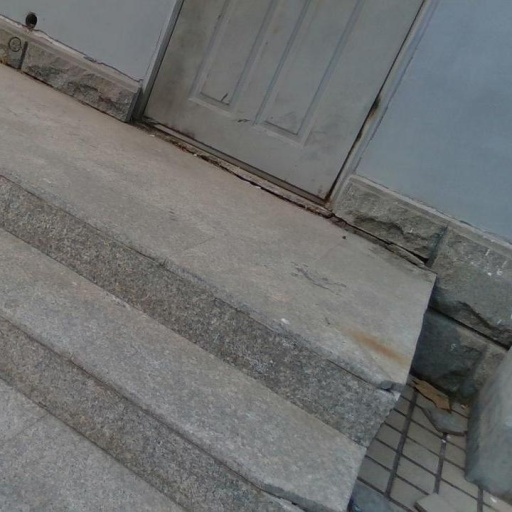Stairs: (0, 89, 432, 512)
